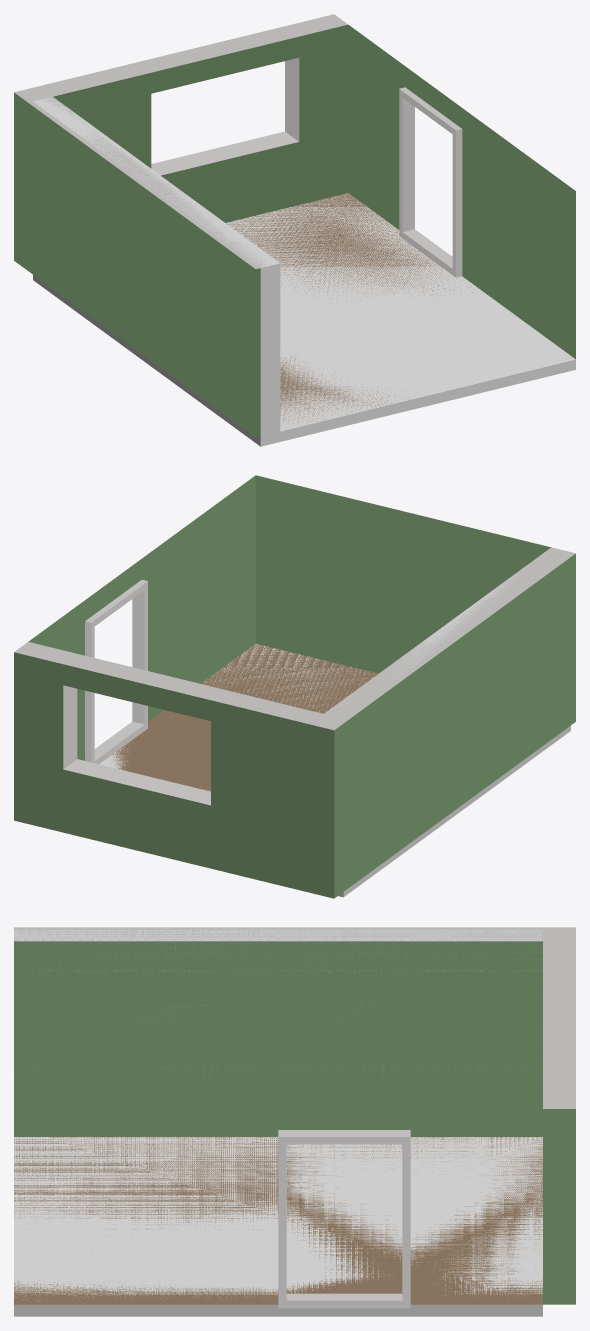
File: bedroom2.gltf
3 renders of one model, top to bottom at view 1: azimuth 30°, elevation 25°; view 2: azimuth 150°, elevation 25°; view 3: azimuth 270°, elevation 25°, orthographic. The views are drawn at different scales.
Parts seen in each view (by area): view 1: Bedroom, FloorBounds, WallBounds, Doorway; view 2: Bedroom, FloorBounds, Doorway, WallBounds; view 3: Bedroom, FloorBounds, Doorway, WallBounds.
Boxes of the visible parts, <box> form: Bedroom: <box>14,14,575,437</box>; FloorBounds: <box>33,193,575,446</box>; WallBounds: <box>33,97,280,436</box>; Doorway: <box>399,87,462,277</box>; Bedroom: <box>14,475,575,898</box>; FloorBounds: <box>99,643,570,897</box>; Doorway: <box>85,579,147,764</box>; WallBounds: <box>325,553,551,713</box>; Bedroom: <box>14,927,575,1304</box>; FloorBounds: <box>14,1137,542,1316</box>; Doorway: <box>278,1130,410,1308</box>; WallBounds: <box>14,930,542,1132</box>.
Size of the model in its own units: 3.31 by 1.73 by 4.25.
Materials: 1 (1 with a texture image).
